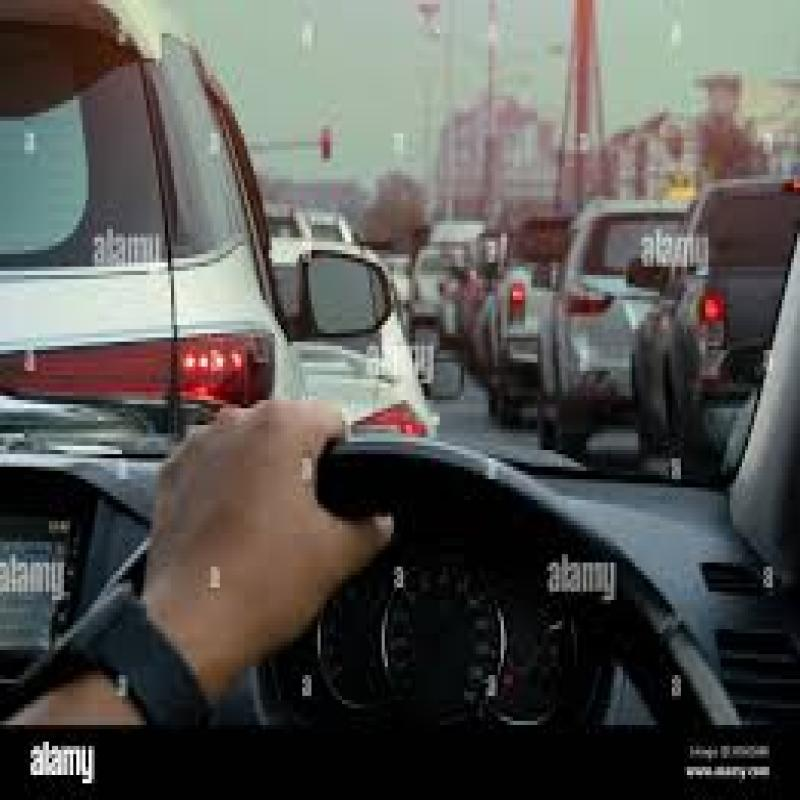car: (0, 0, 324, 547), (681, 178, 800, 629), (538, 178, 665, 428)
